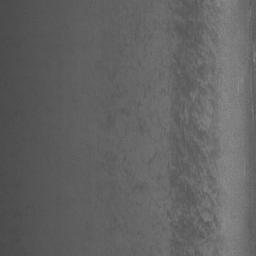Silk spot: (127, 0, 224, 256), (101, 148, 147, 196), (101, 72, 128, 104), (102, 109, 130, 128), (136, 115, 160, 137), (110, 215, 128, 233)
